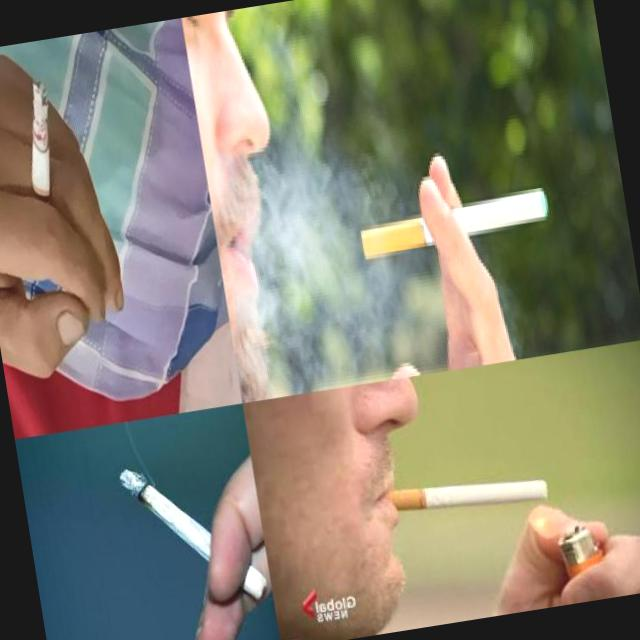smoke: (118, 449, 270, 619), (357, 184, 552, 260), (378, 466, 549, 527), (11, 78, 68, 227)
